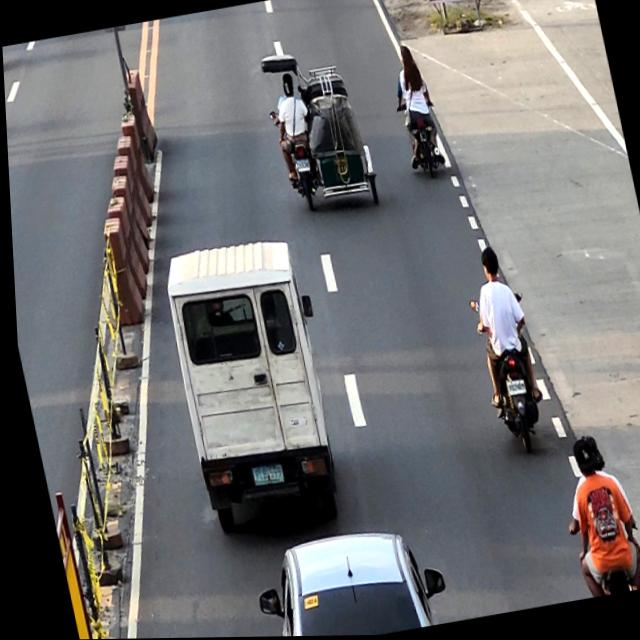Car: (152, 233, 353, 546), (240, 520, 447, 637)
License-Plate: (246, 463, 280, 488), (503, 381, 522, 398), (293, 159, 309, 173)
Motorcycle: (465, 292, 549, 459), (395, 99, 447, 183)
Tricycle: (257, 43, 380, 221)
